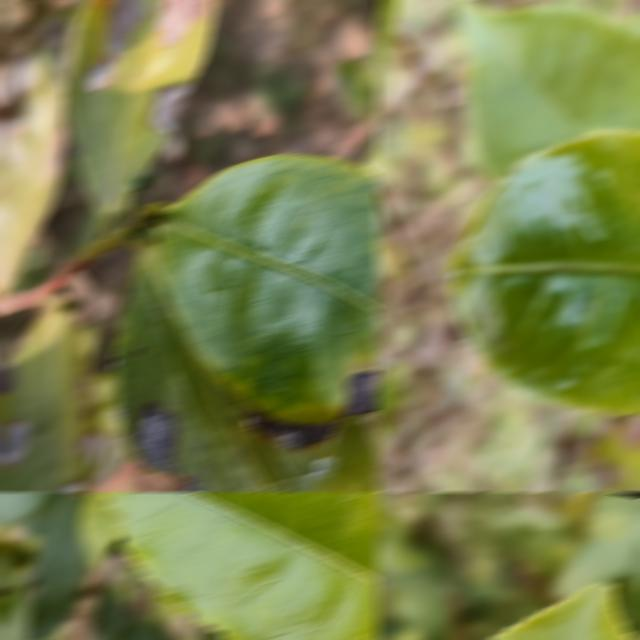Leaf: (110, 244, 380, 492), (155, 155, 380, 424), (449, 132, 640, 413), (102, 492, 380, 640), (66, 0, 217, 224), (459, 4, 640, 177), (0, 304, 108, 492), (0, 45, 67, 297), (27, 492, 92, 638), (91, 589, 180, 640), (77, 492, 122, 568), (0, 571, 32, 640)
